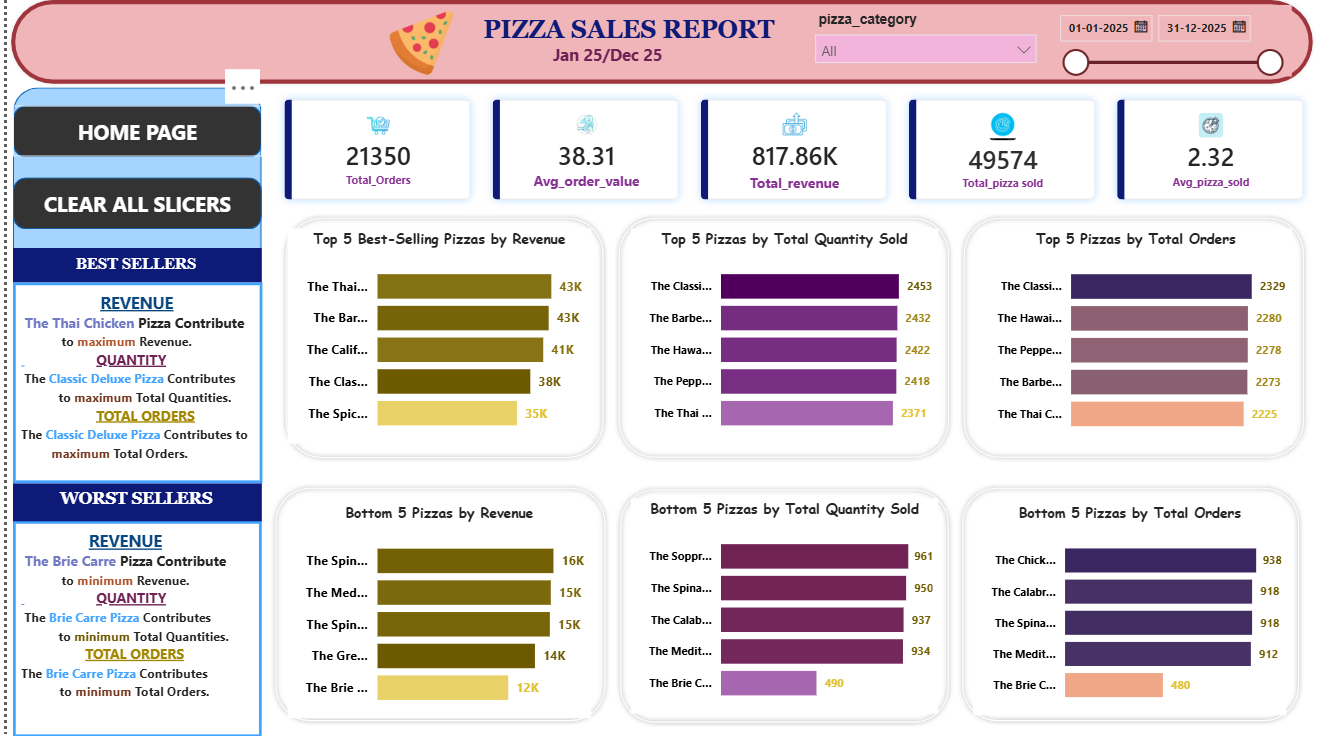

The page's visual inventory and layout, read from the dashboard file:
{"tool":"powerbi","page":{"name":"Best & worst seller","canvas":[1280,720],"ordinal":1},"visuals":[{"type":"cardVisual","fields":{"Data":["pizza_data pizza_sales.Total_Orders","pizza_data pizza_sales.Avg_order_value","pizza_data pizza_sales.Total_revenue","pizza_data pizza_sales.Total_pizza sold","pizza_data pizza_sales.Avg_pizza_sold"]},"box":[257.5,89.1,1012,121.4],"z":0},{"type":"shape","box":[255.8,210.5,328.7,241.3],"z":1000},{"type":"shape","box":[0,0,1271.1,89.1],"z":2000},{"type":"textbox","box":[456.6,13,296.3,63.1],"z":3000},{"type":"image","box":[348.1,13,108.5,64.8],"z":4000},{"type":"shape","box":[6.5,89.1,241.3,631.5],"z":5000},{"type":"textbox","box":[6.5,244.5,241.3,34],"z":6000},{"type":"textbox","box":[5.7,277.8,241.9,194.6],"z":7000},{"type":"textbox","box":[6.5,472.8,241.3,38.9],"z":8000},{"type":"textbox","box":[6.5,511.7,241.3,208.9],"z":9000},{"type":"slicer","fields":{"Values":["pizza_data.pizza_category"]},"box":[774,9.7,234.8,66.4],"z":10000},{"type":"slicer","fields":{"Values":["pizza_data.order_date"]},"box":[1008.8,8.1,238,69.6],"z":11000},{"type":"shape","box":[589.4,210.5,328.7,241.3],"z":12000},{"type":"shape","box":[924.6,210.5,338.4,241.3],"z":13000},{"type":"shape","box":[255.8,472.8,328.7,234.8],"z":14000},{"type":"shape","box":[591,474.4,327.1,234.8],"z":15000},{"type":"shape","box":[923,472.8,335.2,234.8],"z":16000},{"type":"barChart","title":"Top 5 Best-Selling Pizzas by Revenue","fields":{"Category":["pizza_data.pizza_name"],"Y":["pizza_data.Total_revenue"]},"box":[272,225.1,294.7,208.9],"z":17000},{"type":"barChart","title":"Bottom 5 Pizzas by Revenue","fields":{"Category":["pizza_data.pizza_name"],"Y":["pizza_data.Total_revenue"]},"box":[272,492.2,294.7,208.9],"z":18000},{"type":"barChart","title":"Top 5 Pizzas by Total Quantity Sold","fields":{"Category":["pizza_data.pizza_name"],"Y":["pizza_data.Total_pizza sold"]},"box":[605.6,225.1,297.9,208.9],"z":19000},{"type":"barChart","title":"Bottom 5 Pizzas by Total Quantity Sold","fields":{"Category":["pizza_data.pizza_name"],"Y":["pizza_data.Total_pizza sold"]},"box":[605.6,487.4,297.9,208.9],"z":20000},{"type":"barChart","title":"Top 5 Pizzas by Total Orders","fields":{"Category":["pizza_data.pizza_name"],"Y":["pizza_data.Total_Orders"]},"box":[943,224.9,304.3,209.8],"z":21000},{"type":"barChart","title":"Bottom 5 Pizzas by Total Orders","fields":{"Category":["pizza_data.pizza_name"],"Y":["pizza_data.Total_Orders"]},"box":[937.3,491.3,304.3,206],"z":22000}]}

Visuals, with their boxes in screenshot pixels (x1, y1, x2, y2), scaled from the page's 1280x720 canvas onto the 1324x736 screenshot:
cardVisual - pizza_data pizza_sales.Total_Orders x pizza_data pizza_sales.Avg_order_value: [266, 91, 1313, 215]
shape: [265, 215, 605, 462]
shape: [0, 0, 1315, 91]
textbox: [472, 13, 779, 78]
image: [360, 13, 472, 80]
shape: [7, 91, 256, 735]
textbox: [7, 250, 256, 285]
textbox: [6, 284, 256, 483]
textbox: [7, 483, 256, 523]
textbox: [7, 523, 256, 735]
slicer - pizza_data.pizza_category: [801, 10, 1043, 78]
slicer - pizza_data.order_date: [1043, 8, 1290, 79]
shape: [610, 215, 950, 462]
shape: [956, 215, 1306, 462]
shape: [265, 483, 605, 723]
shape: [611, 485, 950, 725]
shape: [955, 483, 1301, 723]
"Top 5 Best-Selling Pizzas by Revenue" barChart: [281, 230, 586, 444]
"Bottom 5 Pizzas by Revenue" barChart: [281, 503, 586, 717]
"Top 5 Pizzas by Total Quantity Sold" barChart: [626, 230, 935, 444]
"Bottom 5 Pizzas by Total Quantity Sold" barChart: [626, 498, 935, 712]
"Top 5 Pizzas by Total Orders" barChart: [975, 230, 1290, 444]
"Bottom 5 Pizzas by Total Orders" barChart: [970, 502, 1284, 713]
